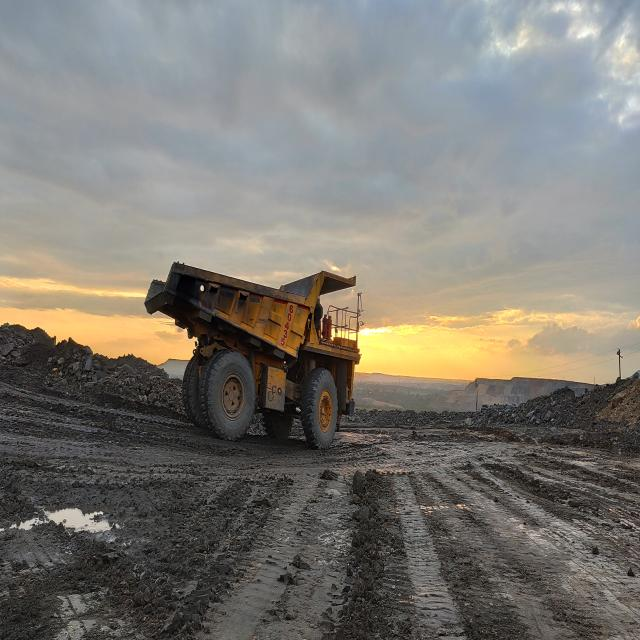dump_truck: (145, 262, 361, 449)
